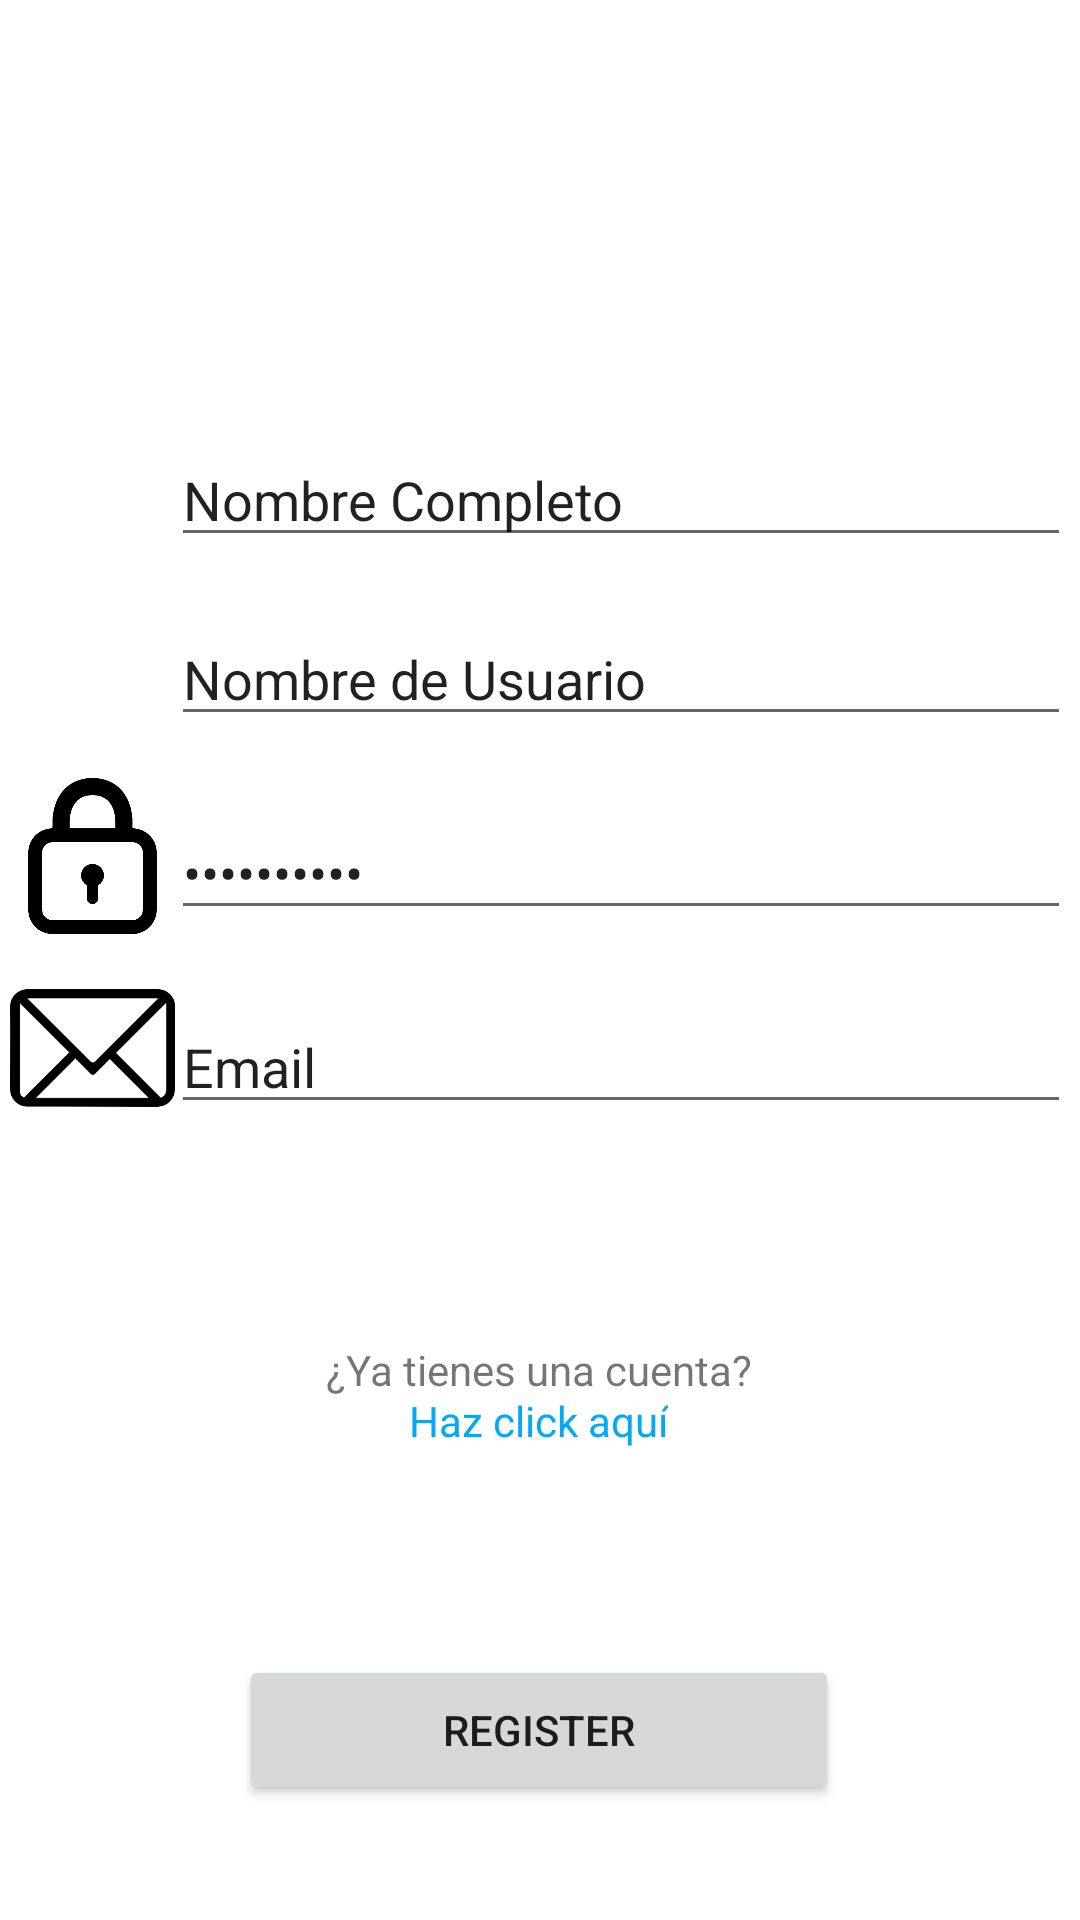

Named icons in this screenshot (1080*1920) and their bounding boxes, (x1=x1, y1=y1, x2=x2, y2=y2):
correo: (x1=10, y1=989, x2=175, y2=1107)
lock: (x1=28, y1=778, x2=157, y2=934)
